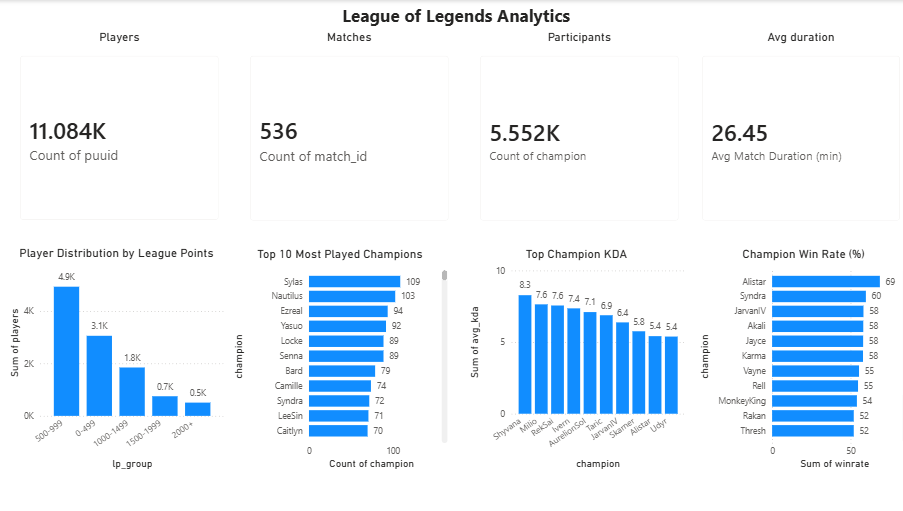

The page's visual inventory and layout, read from the dashboard file:
{"tool":"powerbi","page":{"name":"League of Legends Analytics","canvas":[1280,720],"ordinal":0},"visuals":[{"type":"clusteredBarChart","title":"Top 10 Most Played Champions","fields":{"Category":["participants.champion"],"Y":["CountNonNull(participants.champion)"]},"box":[320.7,345.9,310.9,316.5],"z":0},{"type":"cardVisual","title":"Players","fields":{"Data":["Count(players.puuid)"]},"box":[11.1,42,312.4,283.3],"z":1000},{"type":"cardVisual","title":"Matches","fields":{"Data":["Count(matches.match_id)"]},"box":[333.2,42,312,284],"z":2000},{"type":"cardVisual","title":"Participants","fields":{"Data":["CountNonNull(participants.champion)"]},"box":[655.2,42,312,284],"z":3000},{"type":"clusteredColumnChart","title":"Player Distribution by League Points","fields":{"Category":["lp_distribution.lp_group"],"Y":["Sum(lp_distribution.players)"]},"box":[7,344.5,312.3,317.9],"z":4000},{"type":"columnChart","title":"Top Champion KDA","fields":{"Category":["top_kda.champion"],"Y":["Sum(top_kda.avg_kda)"]},"box":[651.2,345.9,312.3,316.5],"z":5000},{"type":"barChart","title":"Champion Win Rate (%)","fields":{"Category":["top_winrate.champion"],"Y":["Sum(top_winrate.winrate)"]},"box":[973.3,345.9,303.9,316.5],"z":6000},{"type":"textbox","box":[0,0,1277.7,42],"z":7000},{"type":"cardVisual","title":"Avg duration","fields":{"Data":["champion_stats.Avg Match Duration (min)"]},"box":[967,42,311,284],"z":8000}]}

Visuals, with their boxes in screenshot pixels (x1, y1, x2, y2), scaled from the page's 1280x720 canvas onto the 903x511 screenshot:
"Top 10 Most Played Champions" clusteredBarChart: (x1=226, y1=245, x2=446, y2=470)
"Players" cardVisual: (x1=8, y1=30, x2=228, y2=231)
"Matches" cardVisual: (x1=235, y1=30, x2=455, y2=231)
"Participants" cardVisual: (x1=462, y1=30, x2=682, y2=231)
"Player Distribution by League Points" clusteredColumnChart: (x1=5, y1=244, x2=225, y2=470)
"Top Champion KDA" columnChart: (x1=459, y1=245, x2=680, y2=470)
"Champion Win Rate (%)" barChart: (x1=687, y1=245, x2=901, y2=470)
textbox: (x1=0, y1=0, x2=901, y2=30)
"Avg duration" cardVisual: (x1=682, y1=30, x2=902, y2=231)
